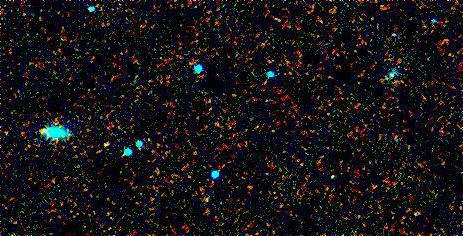star: (93, 130, 123, 160)
